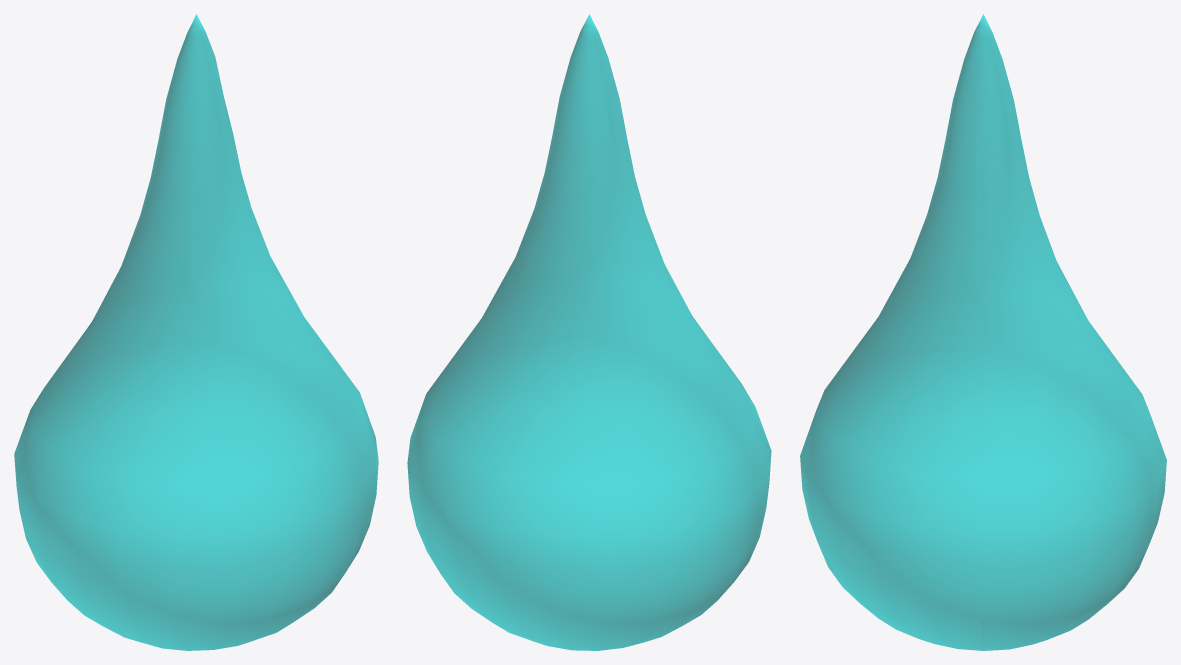
File: Rain Drop Model.fbx
The picture shows the model from 3 angles, left to right: view 1: azimuth 30°, elevation 25°; view 2: azimuth 150°, elevation 25°; view 3: azimuth 270°, elevation 25°; orthographic projection.
Visible parts, largest first — view 1: pSphere1; view 2: pSphere1; view 3: pSphere1.
Boxes of the visible parts, x1=… form: pSphere1: x1=14, y1=14, x2=378, y2=650; pSphere1: x1=407, y1=14, x2=771, y2=650; pSphere1: x1=800, y1=14, x2=1166, y2=650.
Size of the model in its own units: 2 by 3.73 by 2.
